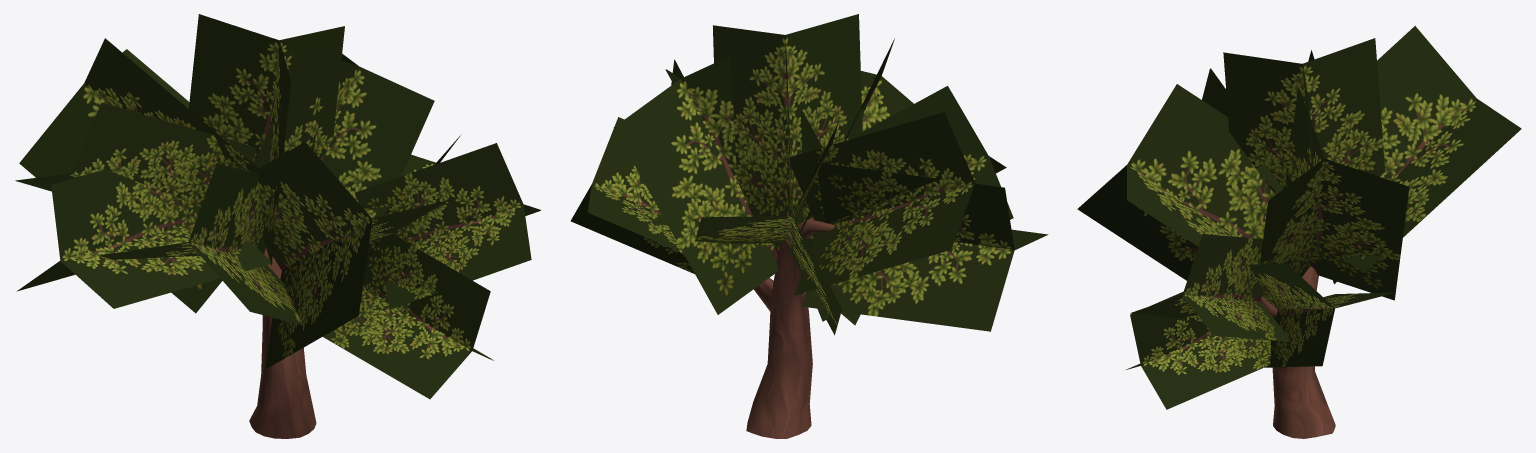
File: zugrand_tree_03.fbx
3 views of the same model, side by side, from view 1: azimuth 30°, elevation 25°; view 2: azimuth 150°, elevation 25°; view 3: azimuth 270°, elevation 25° (orthographic). The views are drawn at different scales.
Visible parts, largest first — view 1: zugrand_tree_03; view 2: zugrand_tree_03; view 3: zugrand_tree_03.
Boxes of the visible parts, x1,y1,x2,y2 form: zugrand_tree_03: (15,14,540,438); zugrand_tree_03: (571,14,1048,438); zugrand_tree_03: (1077,26,1521,438).
Bounding box in the file's own units: 20.32 × 17.09 × 18.76.
